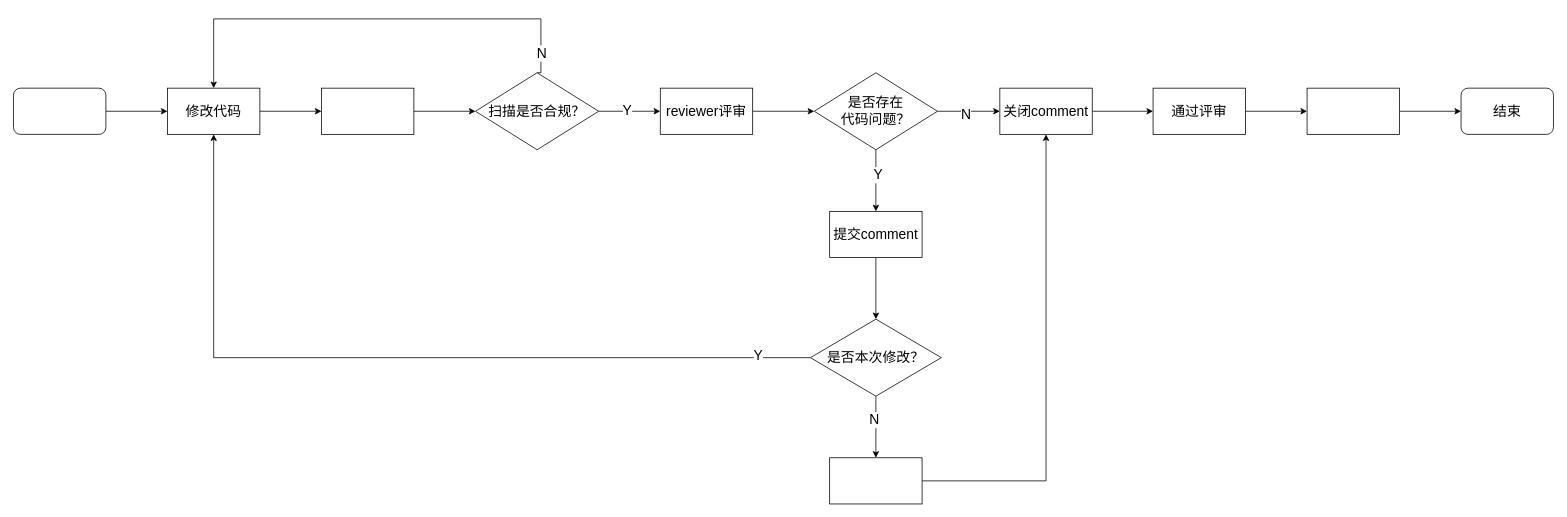
Image size: 1567x517. Some labels were removed from this diagram. The box of each missing label's shape, as (x1, y1, x2, y2) in pixels:
代码自动合入: (1306, 87, 1399, 134)
创建issue: (829, 457, 922, 504)
开始: (13, 87, 106, 134)
提交MR: (321, 87, 414, 134)
